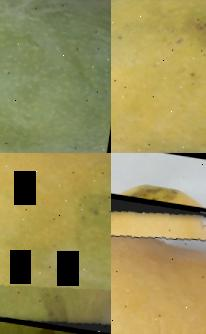PartiallyRipe: (0, 153, 111, 334), (111, 0, 206, 153)
Ripe: (111, 192, 206, 334)
Unripe: (0, 0, 111, 153)
